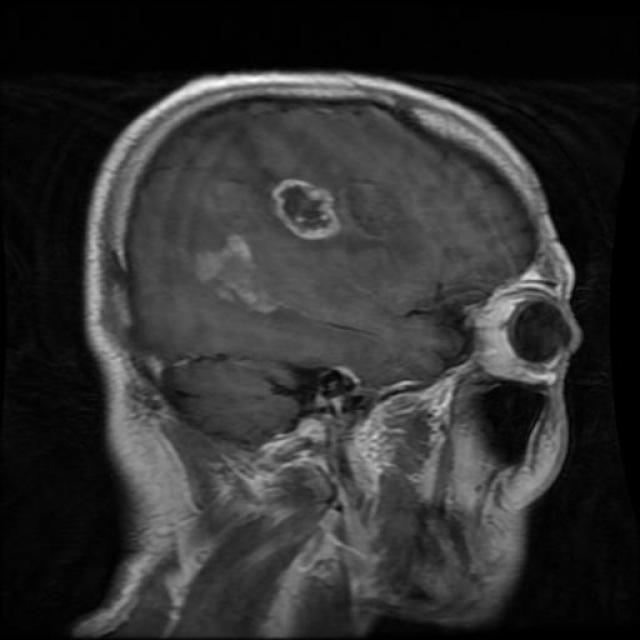Brain-Tumor: (258, 158, 364, 257)
eye: (441, 258, 596, 394)
